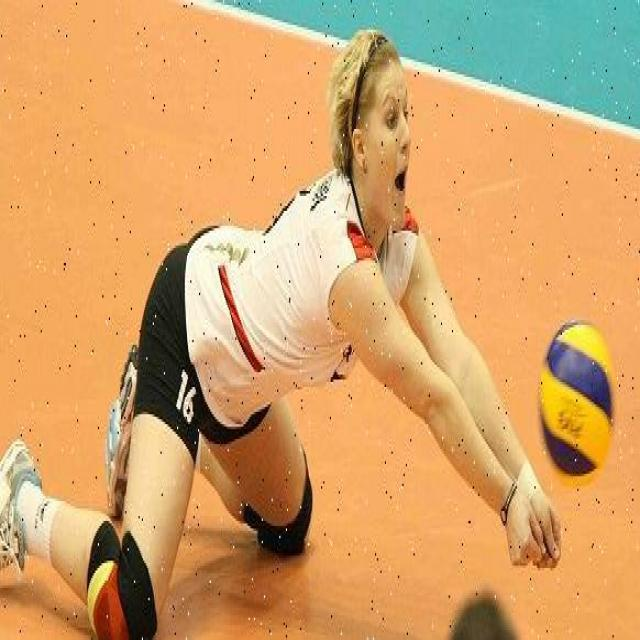fall: (12, 52, 535, 623)
